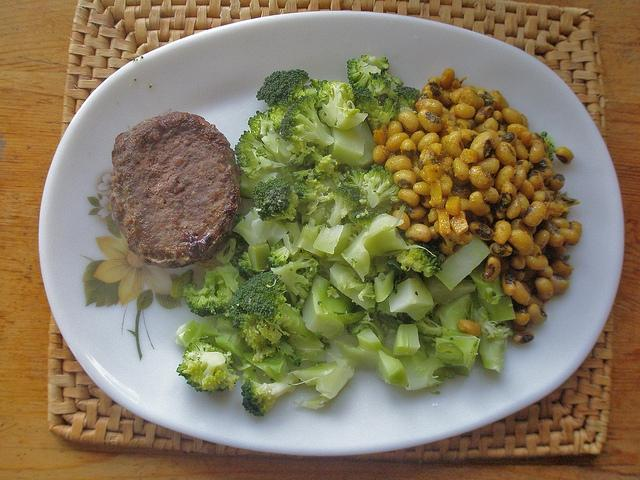broccoli: (288, 327, 444, 410), (224, 271, 324, 363), (301, 274, 368, 338), (280, 94, 334, 166), (177, 339, 240, 395), (469, 253, 516, 322), (436, 236, 492, 292), (271, 252, 318, 311), (389, 227, 442, 278), (315, 80, 369, 130), (235, 131, 288, 180), (241, 374, 301, 417), (473, 306, 509, 373), (364, 228, 437, 260), (434, 327, 480, 375), (388, 272, 434, 320), (232, 207, 288, 246), (256, 69, 312, 108), (252, 177, 300, 221), (212, 263, 248, 318), (183, 271, 225, 317), (362, 164, 403, 208), (260, 119, 295, 165), (328, 124, 366, 166), (392, 312, 442, 343), (293, 178, 334, 214), (427, 276, 476, 306), (434, 294, 472, 331), (328, 185, 359, 226), (348, 204, 387, 236), (360, 100, 400, 131), (347, 59, 381, 90), (312, 225, 343, 254), (394, 324, 420, 356), (342, 166, 368, 191), (368, 72, 392, 95), (315, 154, 338, 176), (267, 246, 290, 267), (290, 152, 314, 168), (281, 172, 296, 188), (338, 164, 352, 176)
